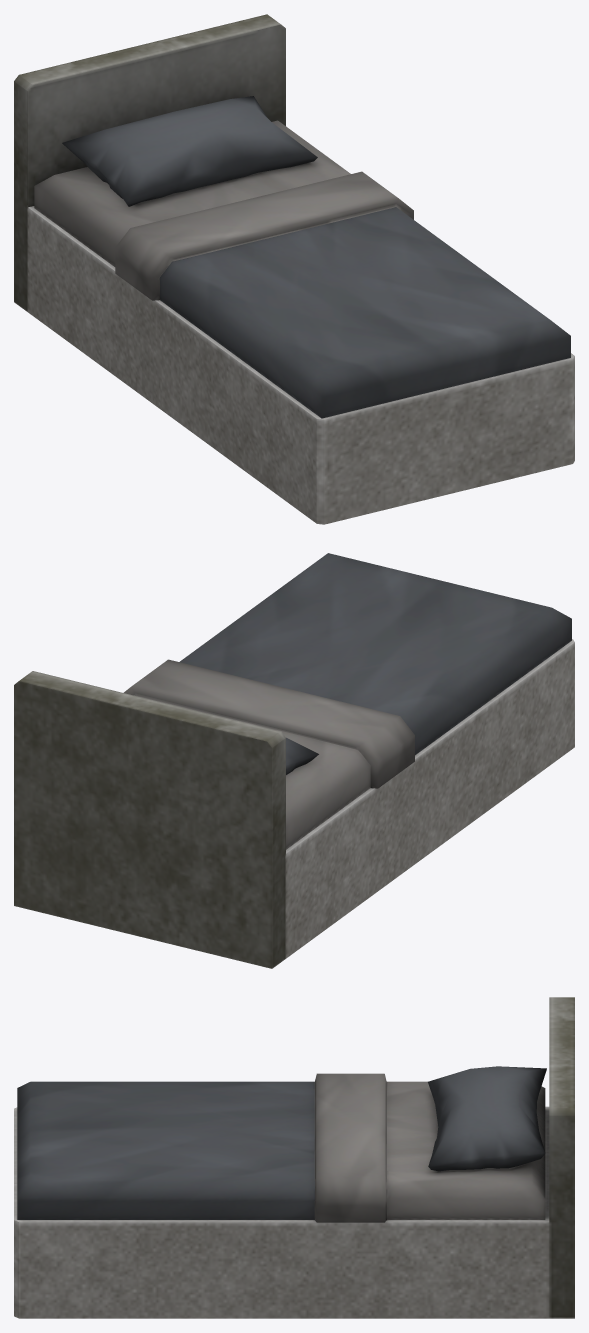
The model's file is smallbed2.glb.
3 renders of one model, top to bottom at view 1: azimuth 30°, elevation 25°; view 2: azimuth 150°, elevation 25°; view 3: azimuth 270°, elevation 25°, orthographic. The views are drawn at different scales.
Parts seen in each view (by area): view 1: Object_42; view 2: Object_42; view 3: Object_42.
Part boxes in pixels (x1,y1,x2,y2): Object_42: [14, 14, 574, 524]; Object_42: [14, 553, 574, 968]; Object_42: [14, 997, 574, 1318].
Size of the model in its own units: 2.1 by 1.74 by 4.25.
1 material, 1 textured.
